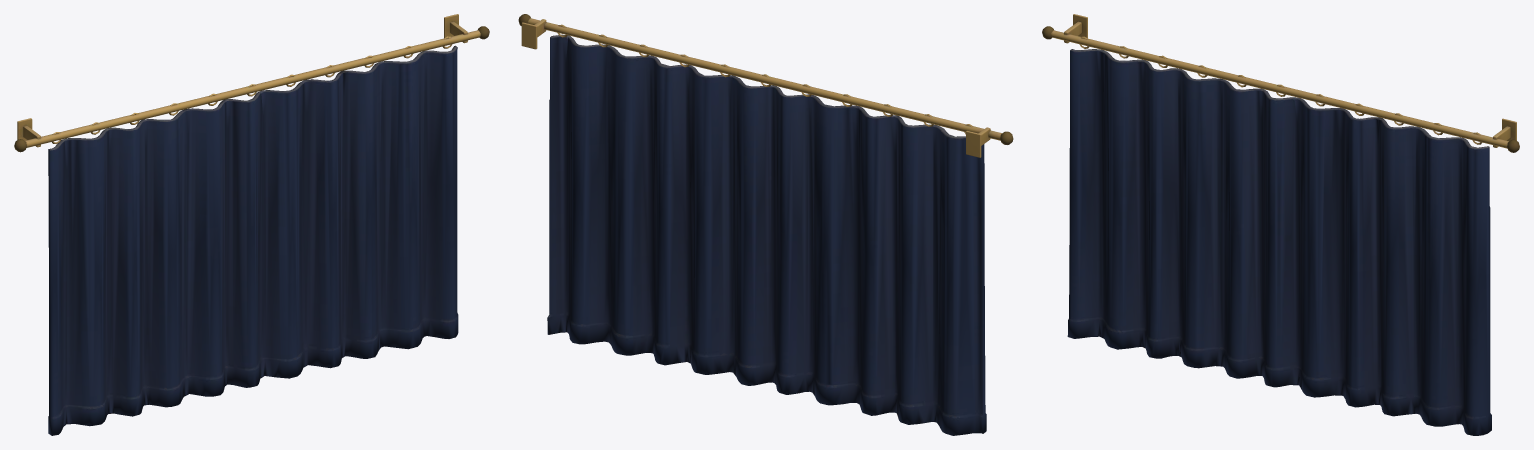
Rendered from curtain_cafe_navy.glb.
The picture shows the model from 3 angles, left to right: view 1: azimuth 30°, elevation 25°; view 2: azimuth 150°, elevation 25°; view 3: azimuth 330°, elevation 25°; orthographic projection. The views are drawn at different scales.
Parts seen in each view (by area): view 1: curtain_cafe_navy; view 2: curtain_cafe_navy; view 3: curtain_cafe_navy.
Boxes of the visible parts, left/top/right/bottom form: curtain_cafe_navy: left=14, top=14, right=489, bottom=435; curtain_cafe_navy: left=518, top=14, right=1013, bottom=435; curtain_cafe_navy: left=1042, top=14, right=1519, bottom=435.
Size of the model in its own units: 1.32 by 0.8104 by 0.1011.
1 material, 1 textured.
